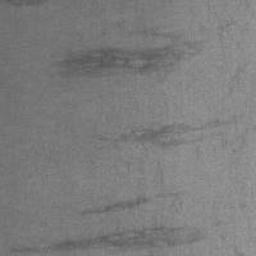Water spot: (50, 19, 207, 86), (9, 225, 210, 256), (95, 113, 243, 147), (81, 191, 188, 216), (0, 0, 51, 8)
